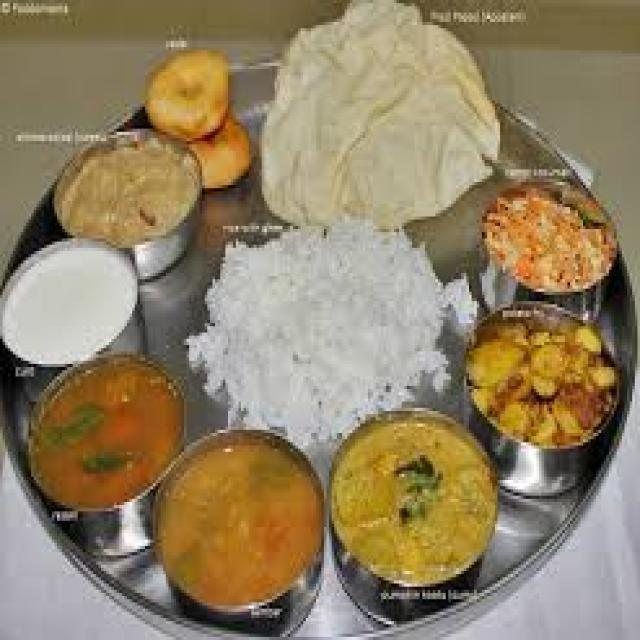curd: (0, 229, 143, 375)
dal: (335, 409, 488, 587)
papad: (256, 13, 503, 234)
rice: (215, 207, 442, 428)
roti: (479, 175, 617, 302)
sambar-rasam: (16, 346, 187, 521)
